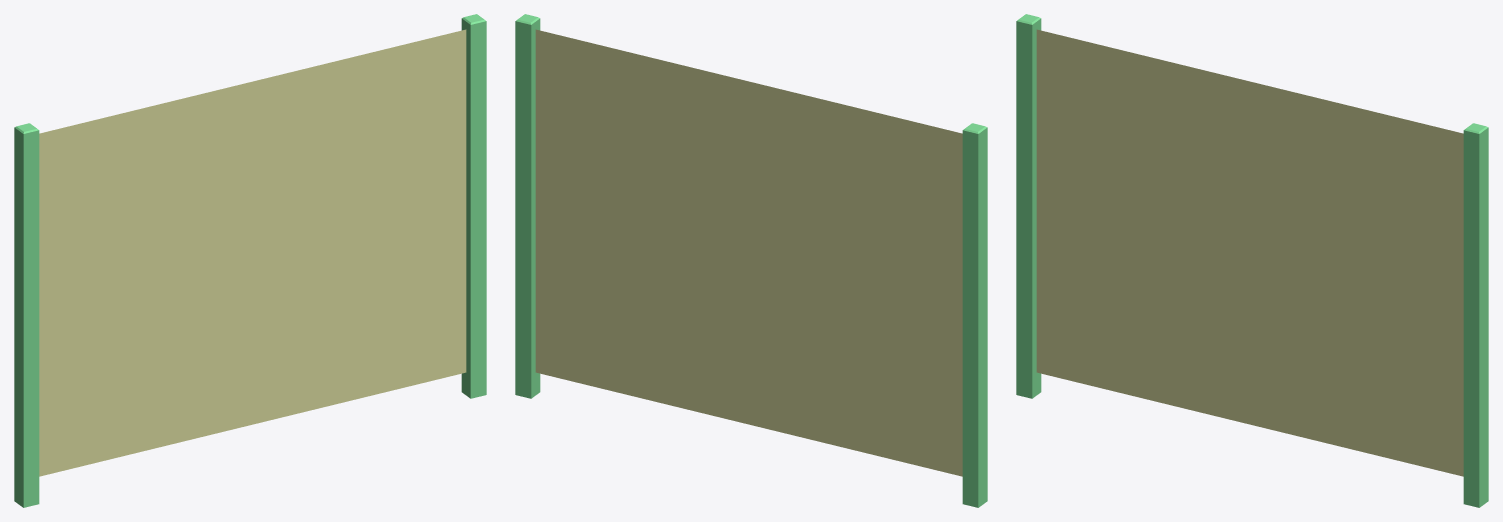
File: grid_fence_large.gltf
3 renders of one model, left to right at view 1: azimuth 30°, elevation 25°; view 2: azimuth 150°, elevation 25°; view 3: azimuth 330°, elevation 25°, orthographic.
Visible parts, largest first — view 1: GridFenceLarge; view 2: GridFenceLarge; view 3: GridFenceLarge.
Part boxes in pixels (left/top/right/bottom): GridFenceLarge: left=14, top=14, right=486, bottom=507; GridFenceLarge: left=515, top=14, right=987, bottom=507; GridFenceLarge: left=1016, top=14, right=1488, bottom=507.
Size of the model in its own units: 3.11 by 2.41 by 0.1057.
